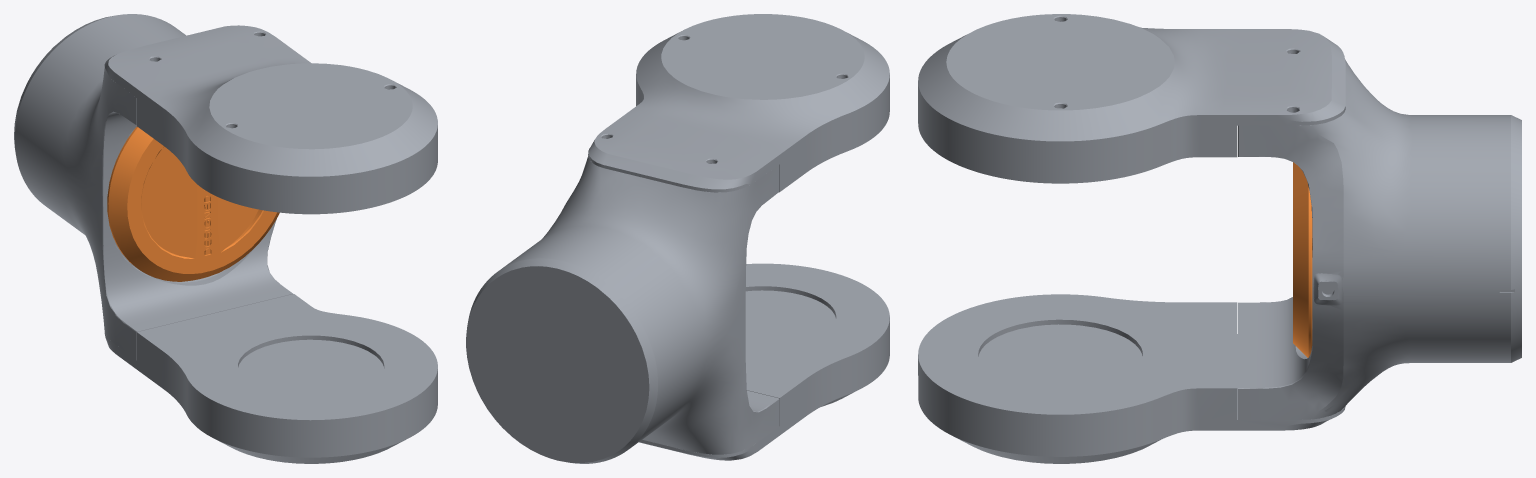
Rendered from left_arm_link2.dae.
3 renders of one model, left to right at view 1: azimuth 30°, elevation 25°; view 2: azimuth 150°, elevation 25°; view 3: azimuth 270°, elevation 25°, orthographic. The views are drawn at different scales.
Visible parts, largest first — view 1: geom1, geom2, geom0; view 2: geom2, geom1; view 3: geom1, geom2, geom0.
Boxes of the visible parts, x1,y1,x2,y2 form: geom1: (104, 25, 437, 463); geom2: (14, 14, 292, 359); geom0: (107, 126, 279, 281); geom2: (466, 156, 779, 463); geom1: (588, 14, 889, 460); geom1: (918, 14, 1345, 463); geom2: (1238, 59, 1521, 419); geom0: (1293, 162, 1312, 357).
Size of the model in its own units: 0.147 by 0.3115 by 0.2012.
